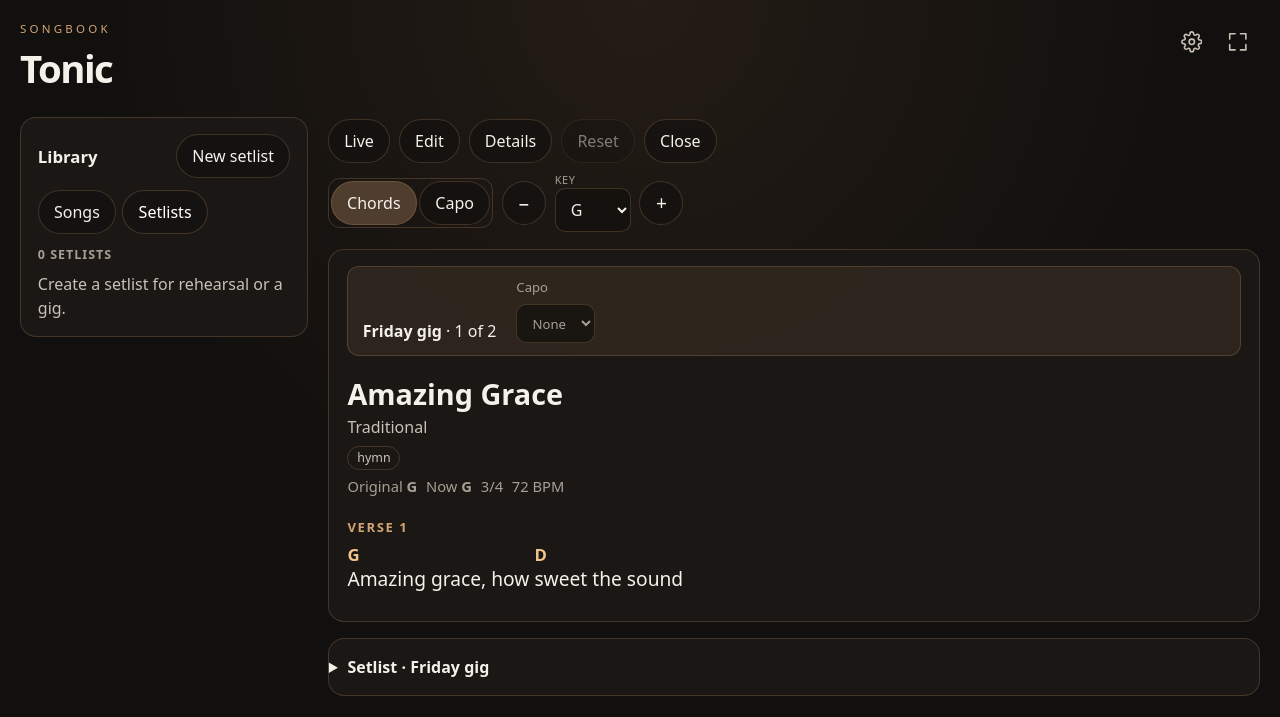
Test: App › advances the setlist from live mode
Click the button "Live" at (359, 141), box x1=328 y1=119 x2=390 y2=163
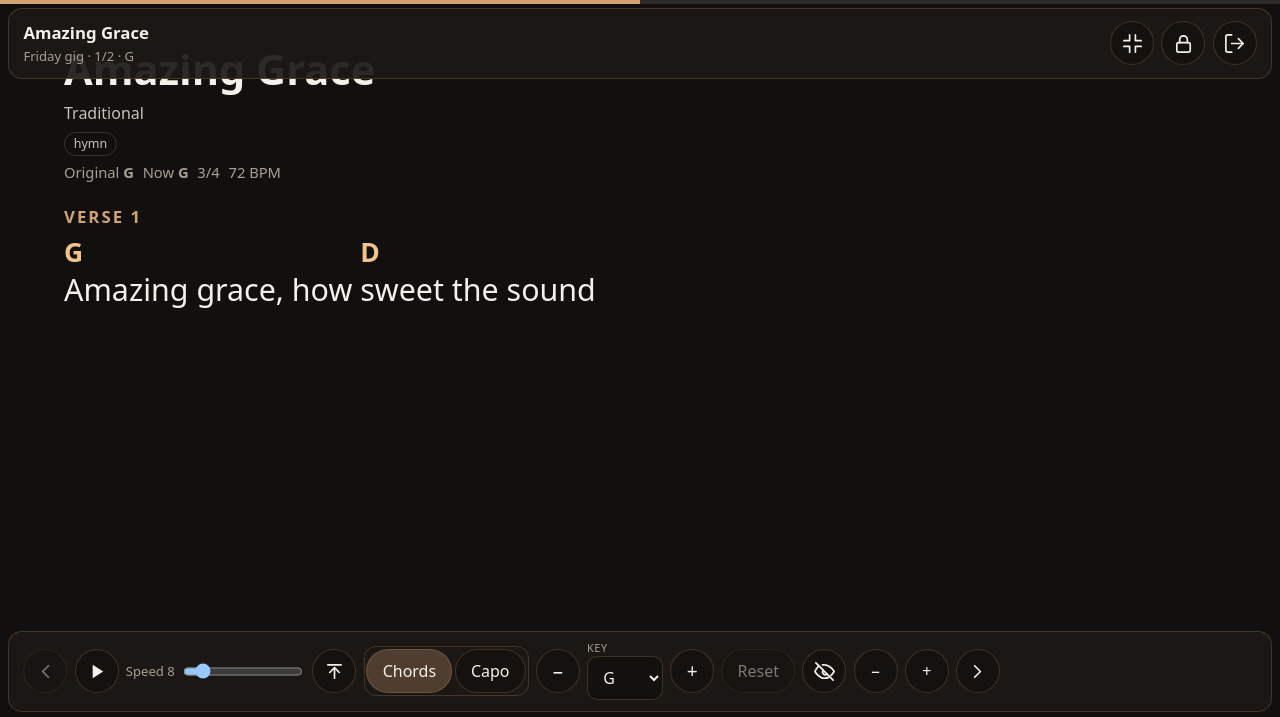
Click the button named "Next" at (978, 671), box x1=956 y1=649 x2=1000 y2=693
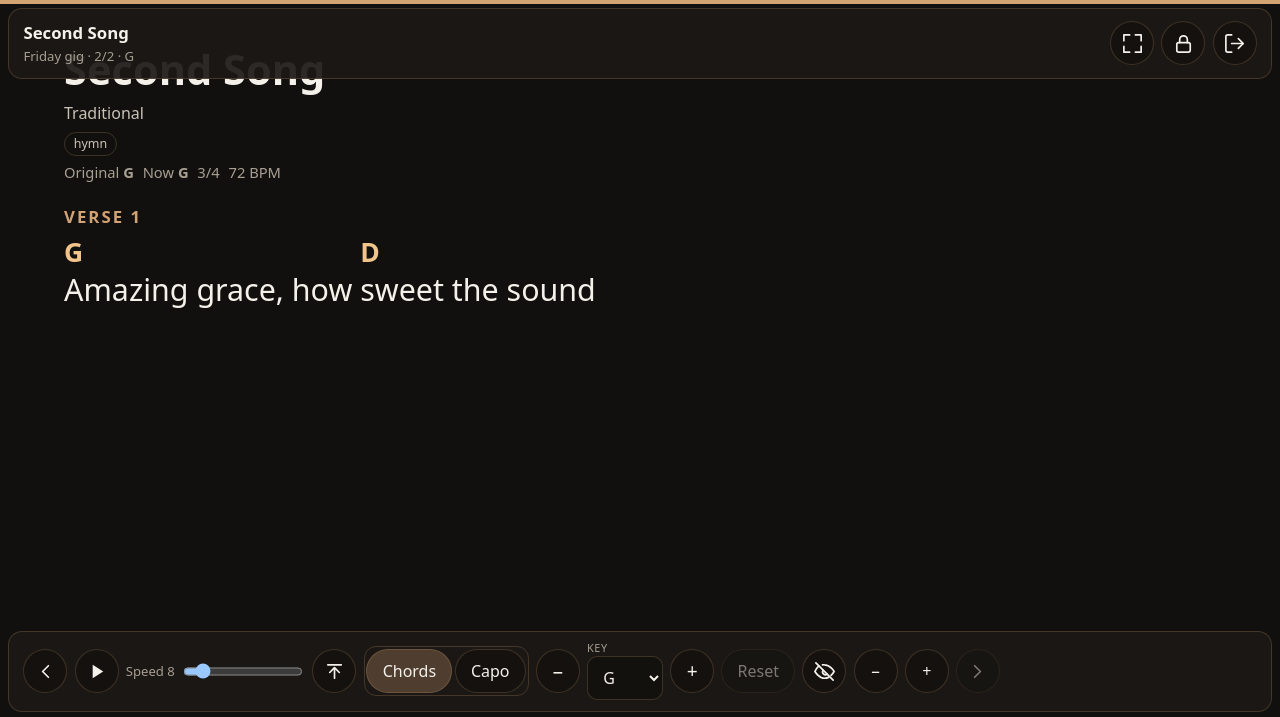
Now the heading "Second Song" is shown, box x1=64 y1=38 x2=325 y2=101
